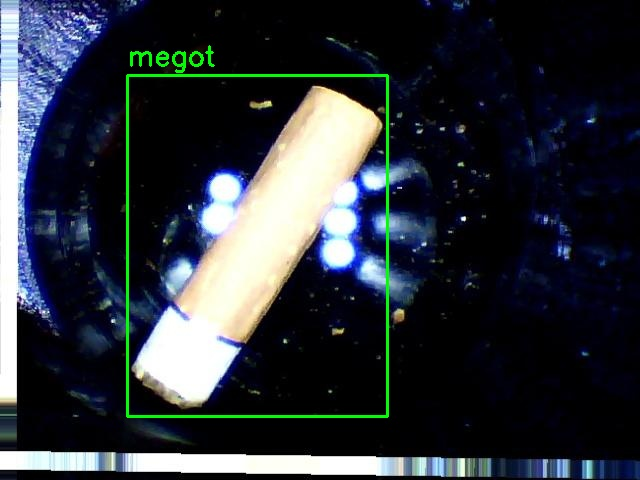megot: (127, 75, 387, 416)
